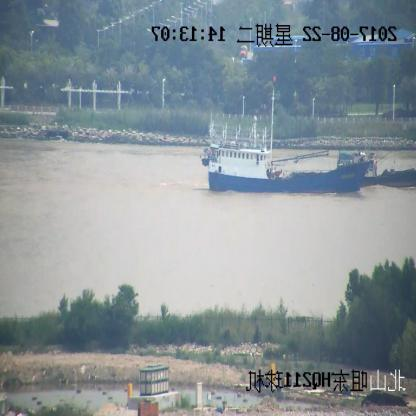Fishing Boat: (202, 76, 373, 195), (334, 150, 416, 188)
